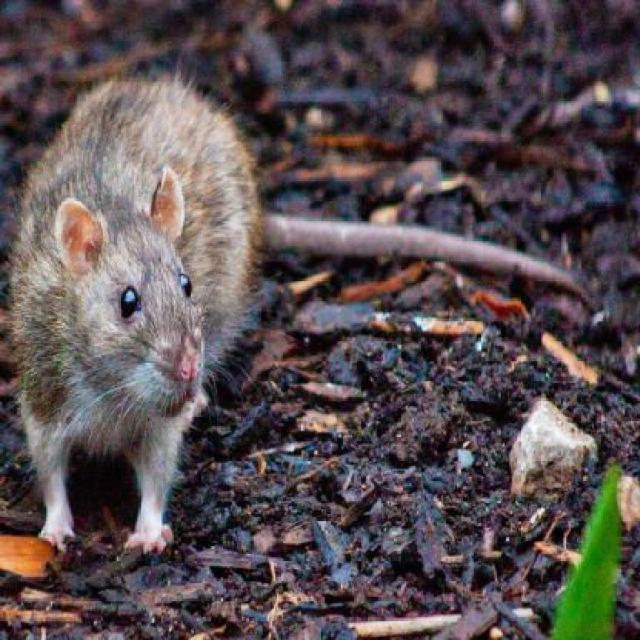Mouse: (3, 67, 603, 574)
